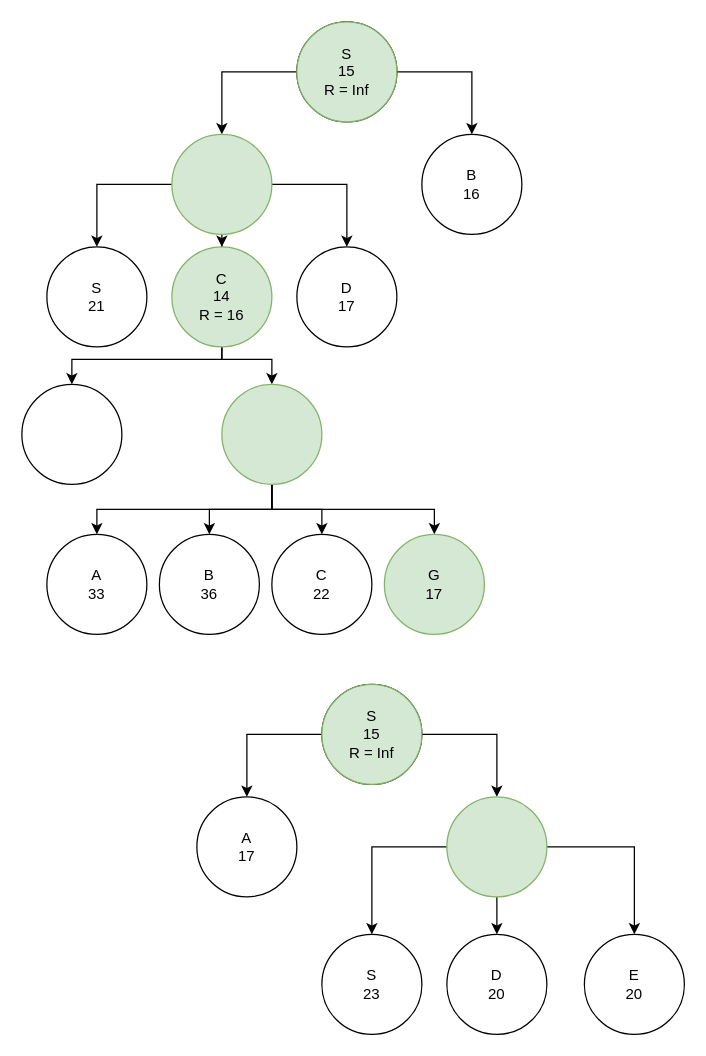
Some shapes in this 706 by 1056 pixel diagram are drawn without their labels. Each missing label, with the centre of its shape:
"A 14 R = 16" goes at (x=221, y=183).
"A 24" goes at (x=71, y=433).
"B 16 R = 17" goes at (x=496, y=846).
"D 16 R = 16" goes at (x=271, y=433).
